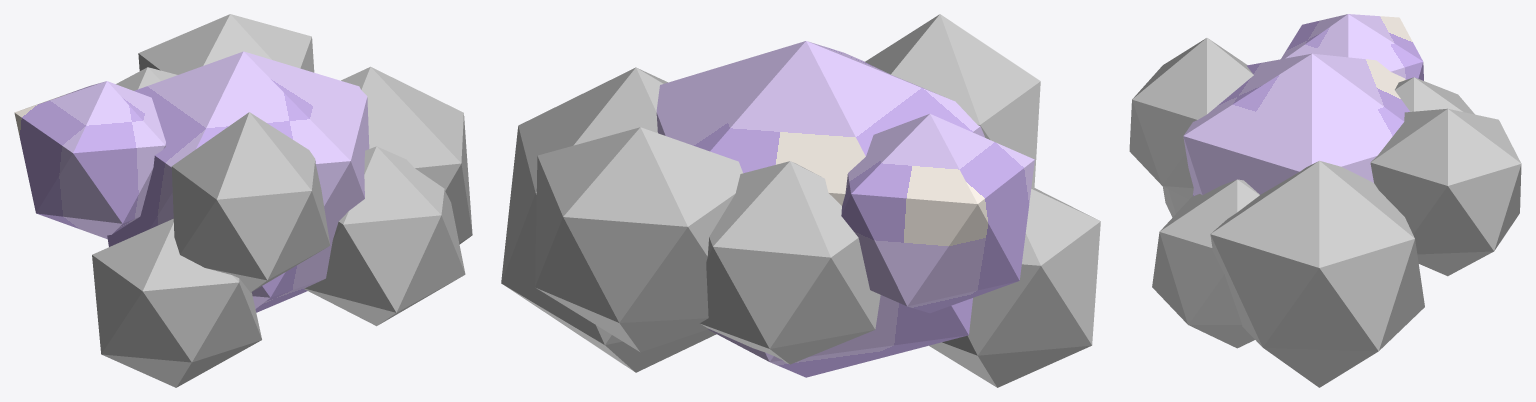
Rendered from Smoke Puff Large.fbx.
3 renders of one model, left to right at view 1: azimuth 30°, elevation 25°; view 2: azimuth 150°, elevation 25°; view 3: azimuth 270°, elevation 25°, orthographic. The views are drawn at different scales.
Visible parts, largest first — view 1: Smoke Puff Large puff; view 2: Smoke Puff Large puff; view 3: Smoke Puff Large puff.
Boxes of the visible parts, x1,y1,x2,y2 form: Smoke Puff Large puff: (14, 14, 472, 387); Smoke Puff Large puff: (501, 14, 1100, 387); Smoke Puff Large puff: (1129, 14, 1521, 387).
Bounding box in the file's own units: 1.62 × 1.09 × 1.42.
